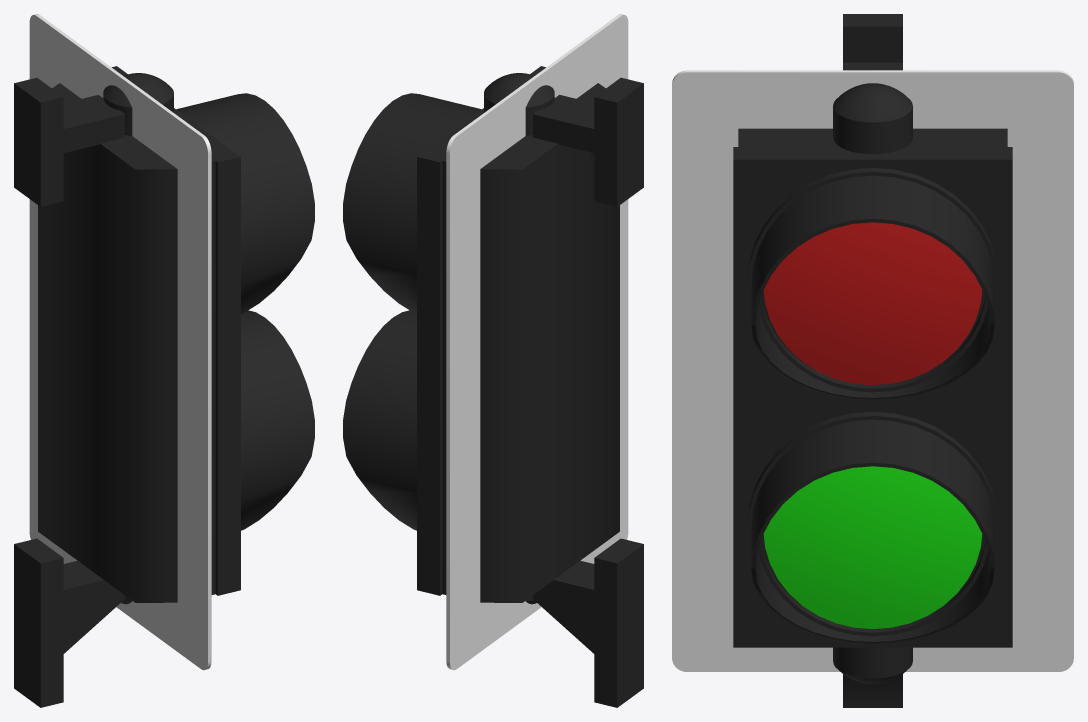
The model's file is model_trafficLight (6).FBX.
3 views of the same model, side by side, from view 1: azimuth 30°, elevation 25°; view 2: azimuth 150°, elevation 25°; view 3: azimuth 270°, elevation 25° (orthographic). The views are drawn at different scales.
Visible parts, largest first — view 1: Svetofor, Ekran; view 2: Svetofor, Ekran; view 3: Svetofor, Ekran, 3, 1.
Part boxes in pixels (x1,y1,x2,y2): Svetofor: (14, 66, 314, 707); Ekran: (29, 14, 211, 670); Svetofor: (343, 66, 643, 707); Ekran: (446, 14, 628, 670); Svetofor: (733, 14, 1012, 707); Ekran: (672, 70, 1073, 671); 3: (763, 222, 982, 385); 1: (763, 466, 982, 628).
Bounding box in the file's own units: 15.86 × 38.59 × 20.63.
